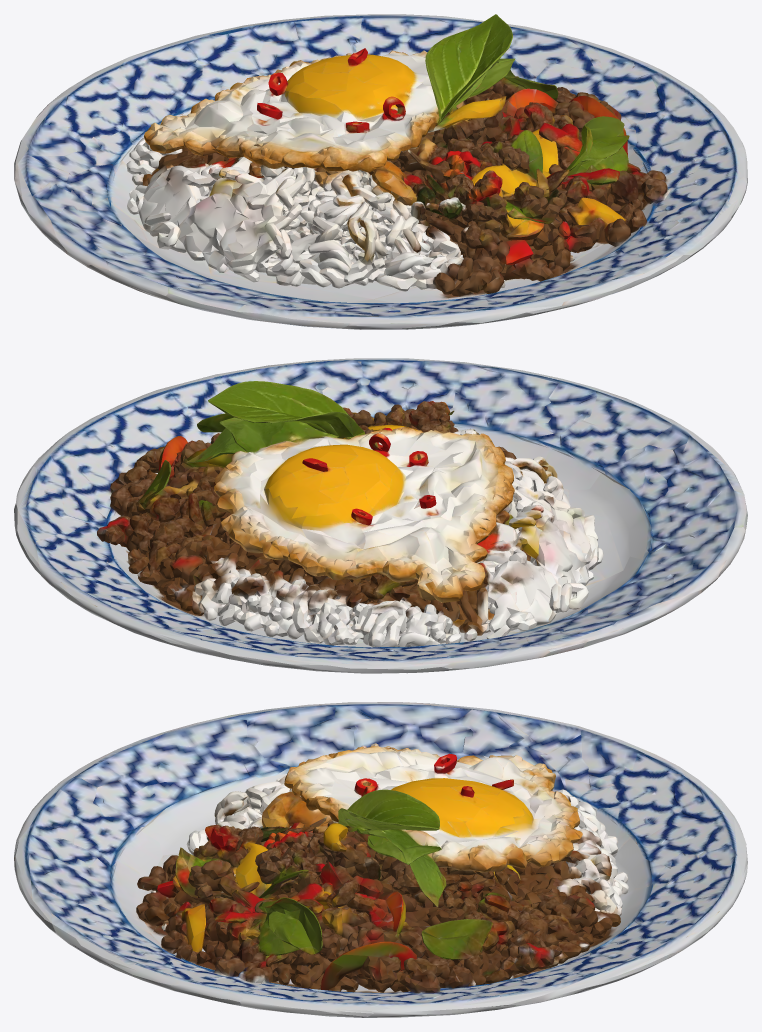
Rendered from product.glb.
3 renders of one model, top to bottom at view 1: azimuth 30°, elevation 25°; view 2: azimuth 150°, elevation 25°; view 3: azimuth 270°, elevation 25°, orthographic.
Visible parts, largest first — view 1: Mesh_0; view 2: Mesh_0; view 3: Mesh_0.
Boxes of the visible parts, x1,y1,x2,y2 form: Mesh_0: (14,14,747,329); Mesh_0: (14,358,747,673); Mesh_0: (14,702,747,1017).
Size of the model in its own units: 1.9 by 0.4424 by 1.9.
1 material, 1 textured.
